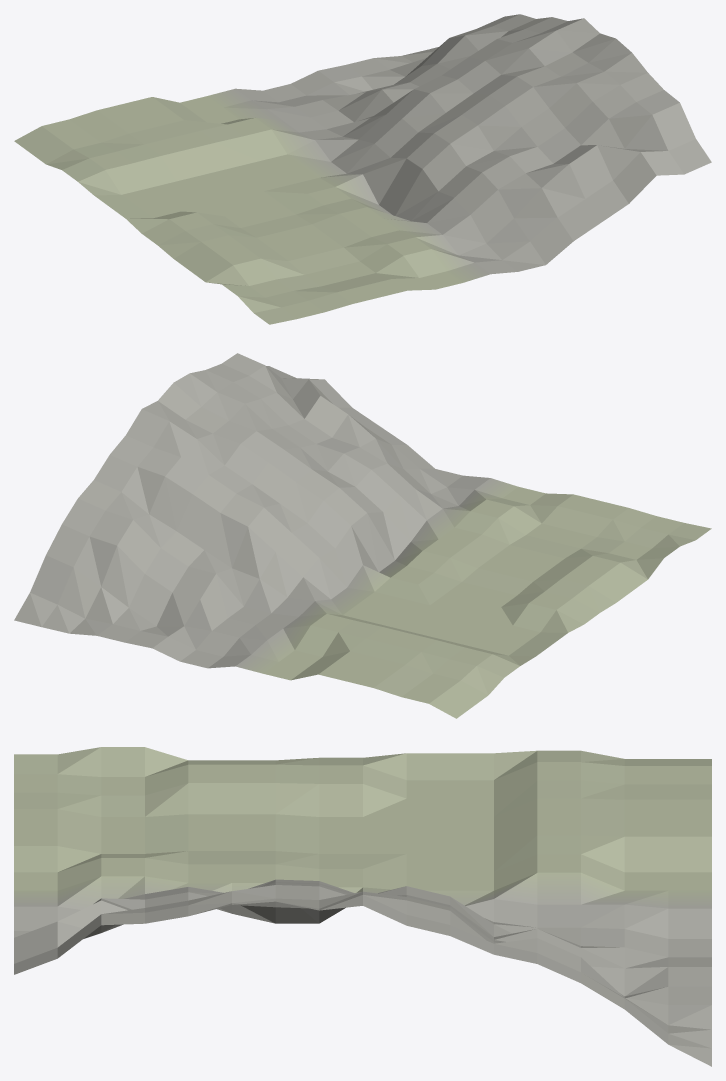
3 views of the same model, one above another, from view 1: azimuth 30°, elevation 25°; view 2: azimuth 150°, elevation 25°; view 3: azimuth 270°, elevation 25° (orthographic). The views are drawn at different scales.
Bounding box in the file's own units: 32 × 8.58 × 32.
